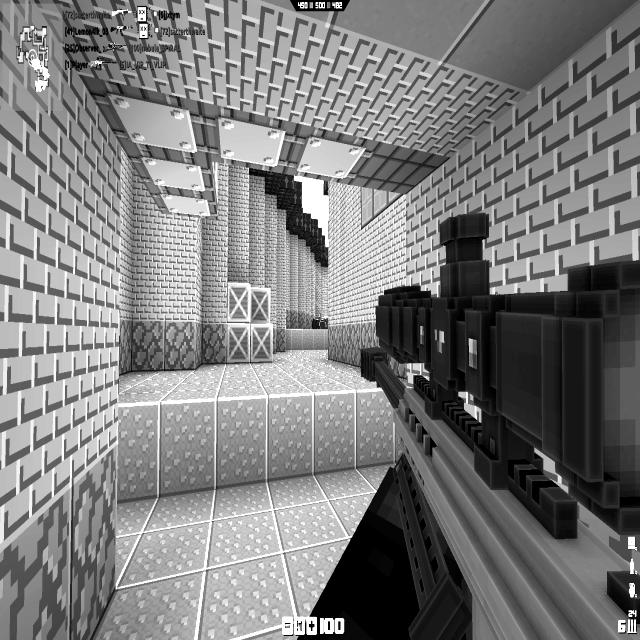Head: (324, 316, 330, 327)
Player: (311, 316, 330, 329)
